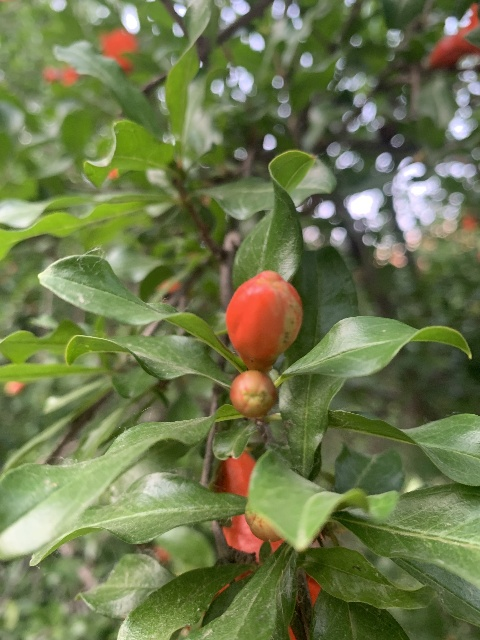bud: (225, 270, 303, 373), (229, 370, 276, 419)
flower: (213, 447, 318, 640), (428, 2, 480, 72), (99, 29, 138, 74)
